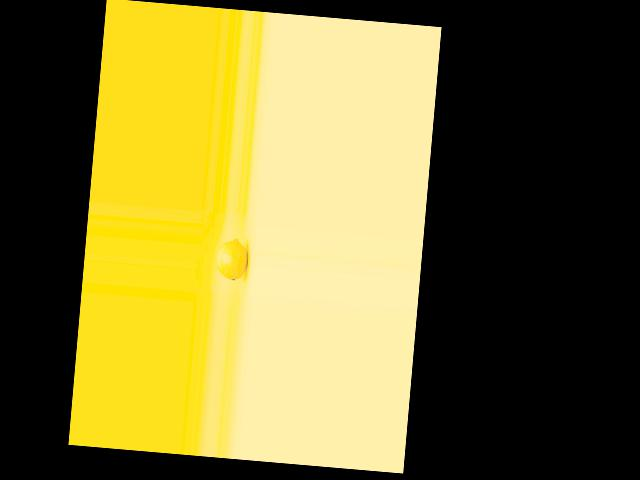lemon: (213, 230, 248, 285)
